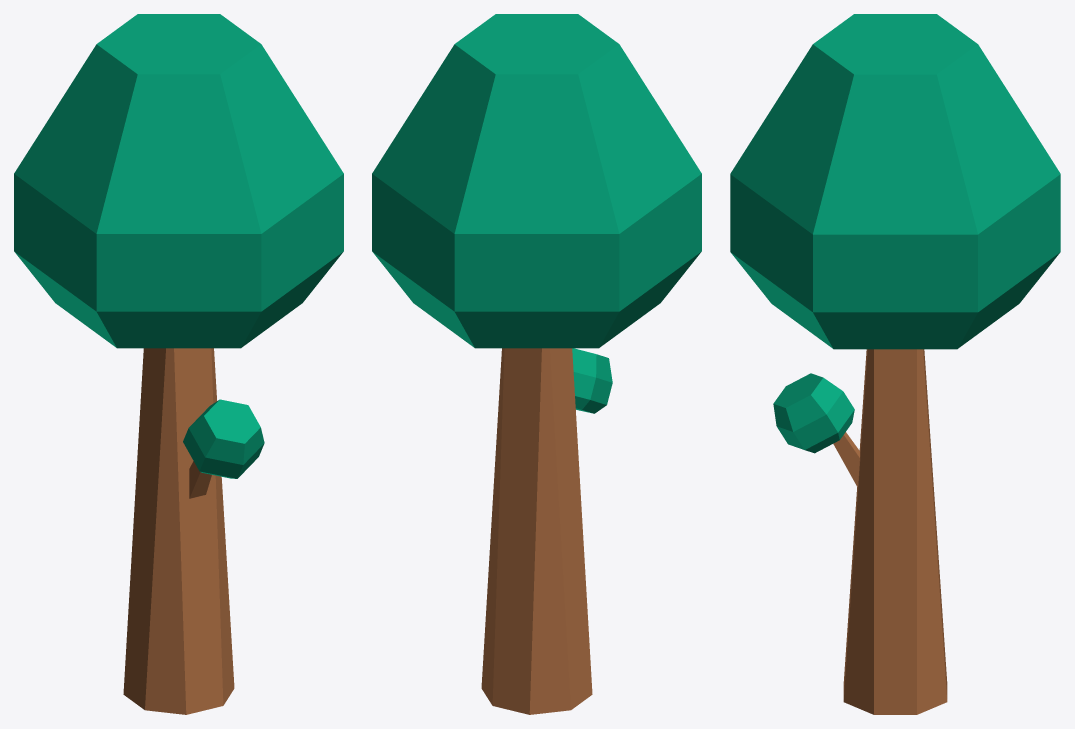
File: tree.glb
3 views of the same model, side by side, from view 1: azimuth 30°, elevation 25°; view 2: azimuth 150°, elevation 25°; view 3: azimuth 270°, elevation 25° (orthographic).
Visible parts, largest first — view 1: mergedBlocks(Clone); view 2: mergedBlocks(Clone); view 3: mergedBlocks(Clone).
Part boxes in pixels (left/top/right/bottom): mergedBlocks(Clone): left=14, top=14, right=343, bottom=714; mergedBlocks(Clone): left=372, top=14, right=701, bottom=714; mergedBlocks(Clone): left=730, top=14, right=1060, bottom=714.
Size of the model in its own units: 0.4932 by 1.23 by 0.5695.
